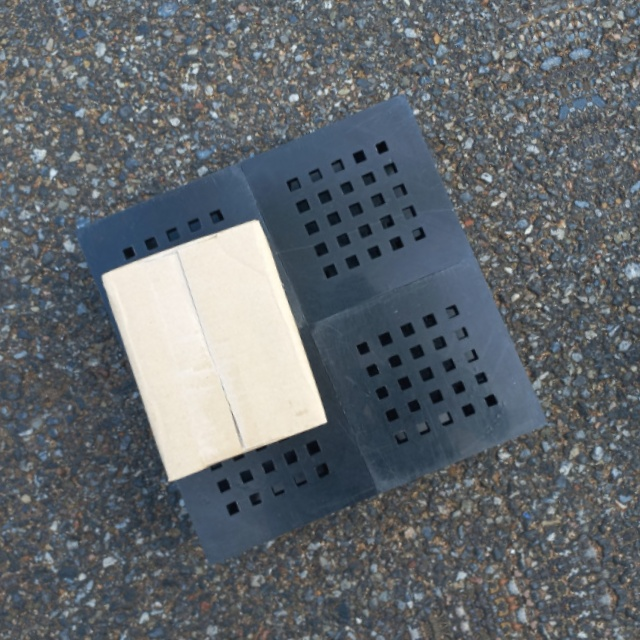box: (99, 219, 331, 489)
pallet: (51, 75, 564, 577)
